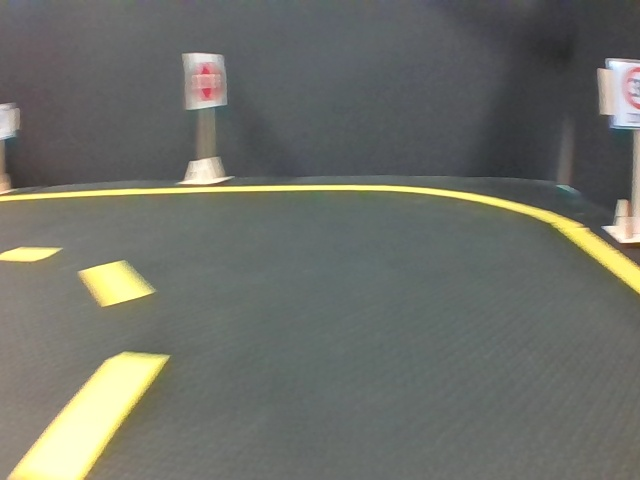30: (611, 60, 640, 123)
no30: (1, 103, 13, 136)
stop: (184, 52, 227, 108)
